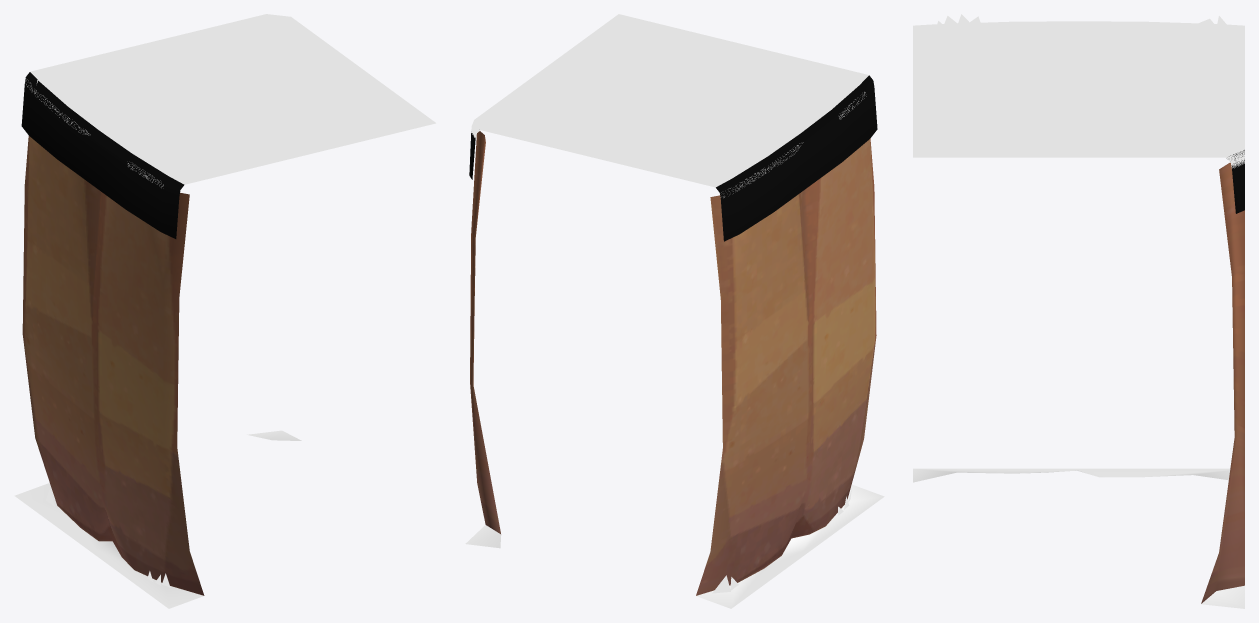
3 renders of one model, left to right at view 1: azimuth 30°, elevation 25°; view 2: azimuth 150°, elevation 25°; view 3: azimuth 270°, elevation 25°, orthographic. The views are drawn at different scales.
Parts seen in each view (by area): view 1: CliffB__mCliff, GrassT__mGrass, GrassOP_1__mGrassCliffXlu, GrassB_1__mGrass; view 2: CliffB__mCliff, GrassT__mGrass, GrassOP_1__mGrassCliffXlu, GrassB_1__mGrass; view 3: GrassT__mGrass, CliffB__mCliff, GrassB_1__mGrass, GrassOP_1__mGrassCliffXlu.
Part boxes in pixels (left/top/right/bottom): CliffB__mCliff: left=22, top=136, right=204, bottom=595; GrassT__mGrass: left=25, top=14, right=435, bottom=187; GrassOP_1__mGrassCliffXlu: left=21, top=72, right=184, bottom=238; GrassB_1__mGrass: left=14, top=430, right=301, bottom=608; CliffB__mCliff: left=470, top=131, right=876, bottom=595; GrassT__mGrass: left=471, top=14, right=868, bottom=197; GrassOP_1__mGrassCliffXlu: left=469, top=75, right=877, bottom=241; GrassB_1__mGrass: left=465, top=484, right=884, bottom=608; GrassT__mGrass: left=913, top=21, right=1244, bottom=168; CliffB__mCliff: left=1201, top=162, right=1244, bottom=603; GrassB_1__mGrass: left=913, top=468, right=1244, bottom=608; GrassOP_1__mGrassCliffXlu: left=1229, top=150, right=1244, bottom=213.
Bounding box in the file's own units: 10 × 15.32 × 10.
Materials: 4 (1 with a texture image).
